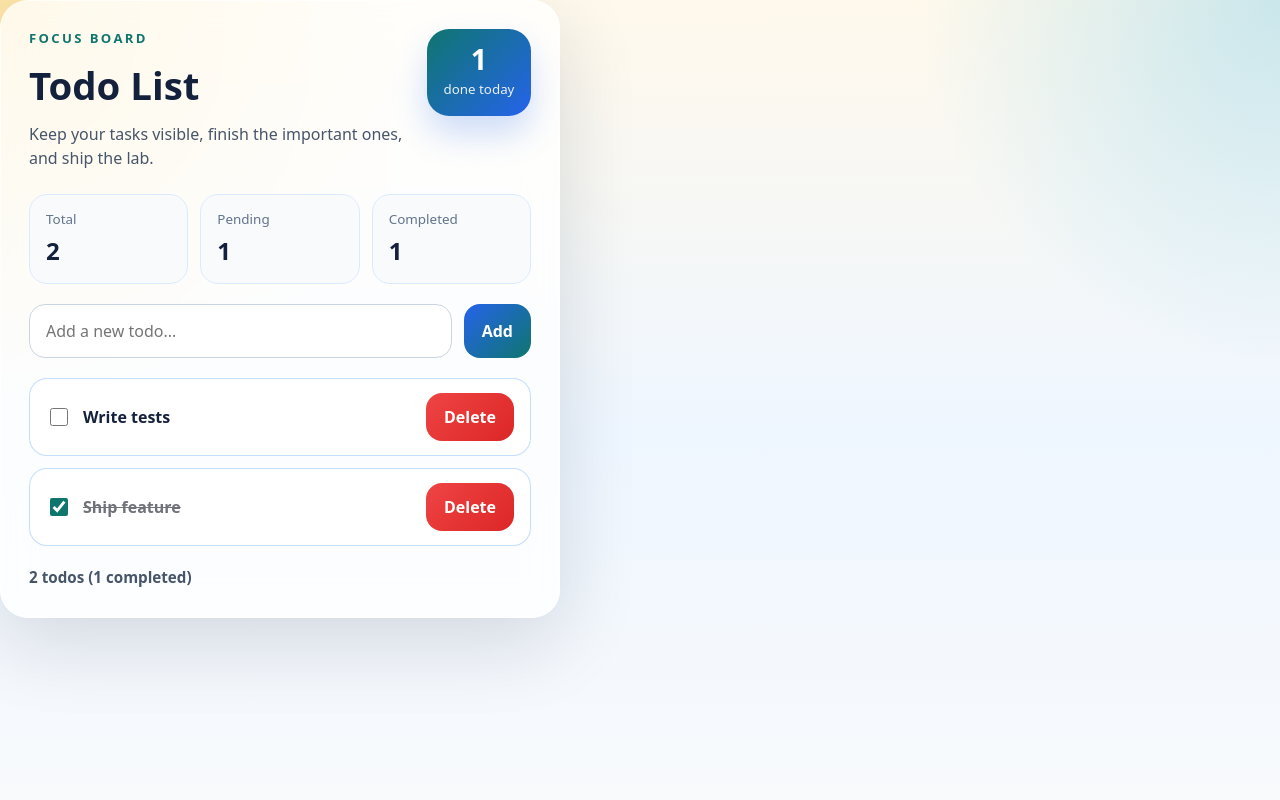
Test: TodoList › toggles completion state from the checkbox
This screenshot has width=1280, height=800.
Click the 1st checkbox with test id "todo-checkbox" at (59,418), box [50,408,68,426]
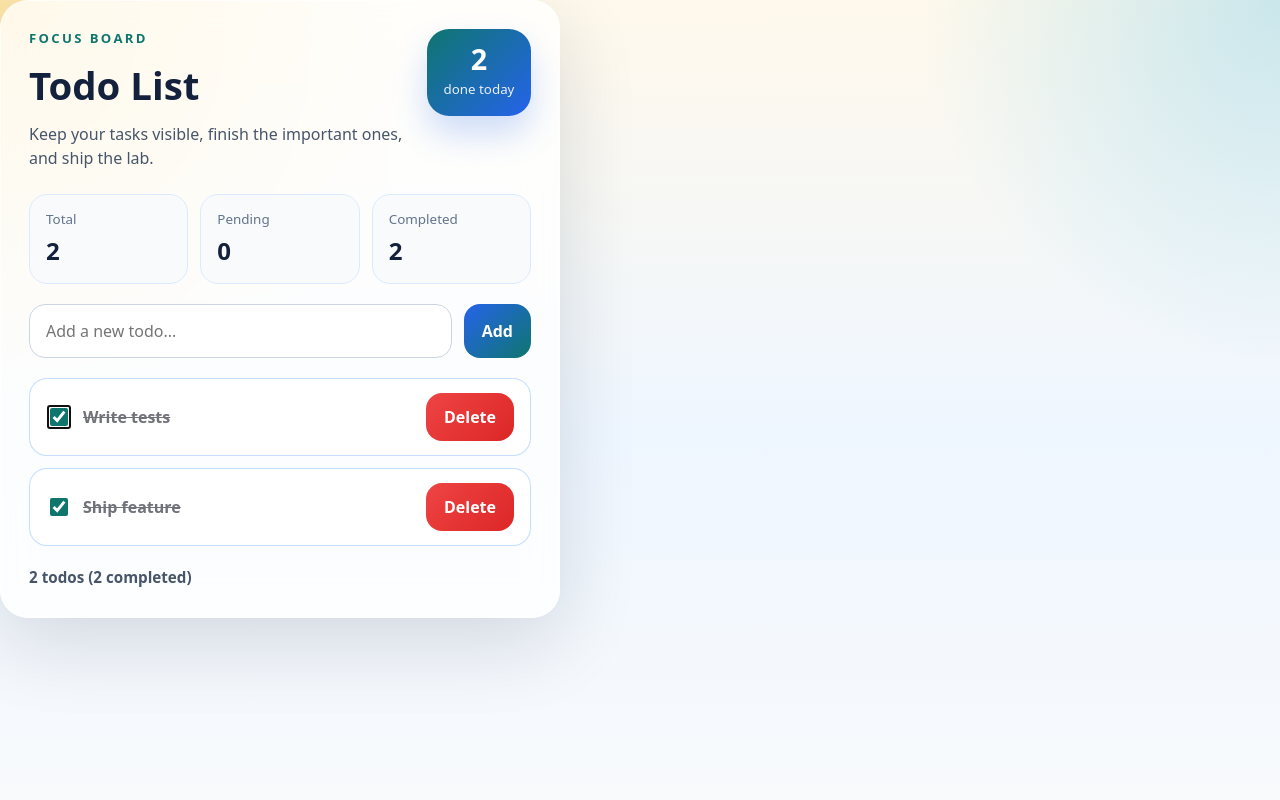
Expected: the 2nd checkbox with test id "todo-checkbox" is checked, [50,498,68,516]
Expected: the 1st checkbox with test id "todo-checkbox" is checked, [50,408,68,426]
Expected: the text with test id "todo-count" reads "2 todos (2 completed)", [29,568,192,588]
